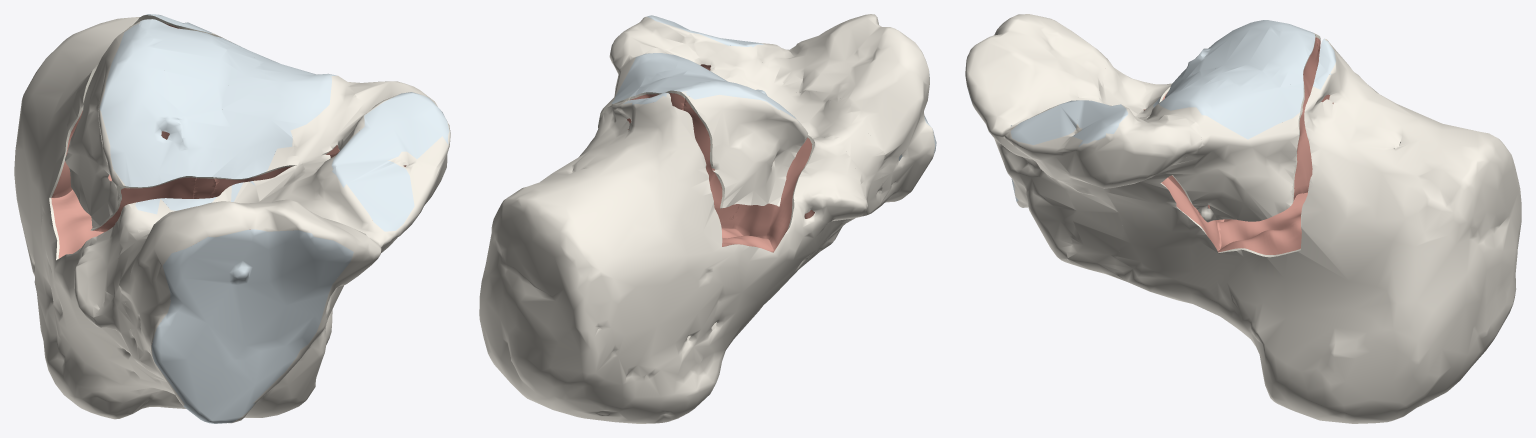
The model's file is 82C3_elderly.glb.
The picture shows the model from 3 angles, left to right: view 1: azimuth 30°, elevation 25°; view 2: azimuth 150°, elevation 25°; view 3: azimuth 270°, elevation 25°; orthographic projection. The views are drawn at different scales.
Parts seen in each view (by area): view 1: calcaneus: anterior process fragment, calcaneus: tuberosity, calcaneus: lateral joint fragment, calcaneus: sustentacular fragment, calcaneus: central depressed fragment 2, calcaneus: central depressed fragment 1, calcaneus: medial joint fragment; view 2: calcaneus: tuberosity, calcaneus: anterior process fragment, calcaneus: lateral joint fragment, calcaneus: sustentacular fragment, calcaneus: medial joint fragment, calcaneus: central depressed fragment 1, calcaneus: central depressed fragment 2; view 3: calcaneus: tuberosity, calcaneus: anterior process fragment, calcaneus: medial joint fragment, calcaneus: sustentacular fragment, calcaneus: central depressed fragment 1, calcaneus: central depressed fragment 2, calcaneus: lateral joint fragment.
Part boxes in pixels (x1,y1,x2,y2): calcaneus: anterior process fragment: (119,161,439,423); calcaneus: tuberosity: (14,14,351,419); calcaneus: lateral joint fragment: (65,25,196,232); calcaneus: sustentacular fragment: (93,81,450,417); calcaneus: central depressed fragment 2: (209,40,297,198); calcaneus: central depressed fragment 1: (134,19,231,198); calcaneus: medial joint fragment: (222,38,363,164); calcaneus: tuberosity: (479,47,867,423); calcaneus: anterior process fragment: (702,14,936,206); calcaneus: lateral joint fragment: (683,80,807,208); calcaneus: sustentacular fragment: (609,15,884,255); calcaneus: medial joint fragment: (598,33,703,128); calcaneus: central depressed fragment 1: (630,73,757,168); calcaneus: central depressed fragment 2: (635,63,727,92); calcaneus: tuberosity: (1110,38,1521,423); calcaneus: anterior process fragment: (965,14,1110,262); calcaneus: medial joint fragment: (1134,81,1312,222); calcaneus: sustentacular fragment: (1062,61,1202,276); calcaneus: central depressed fragment 1: (1166,30,1318,98); calcaneus: central depressed fragment 2: (1144,68,1293,208); calcaneus: lateral joint fragment: (1170,20,1320,88).
Size of the model in its own units: 0.0475 by 0.0513 by 0.0757.
